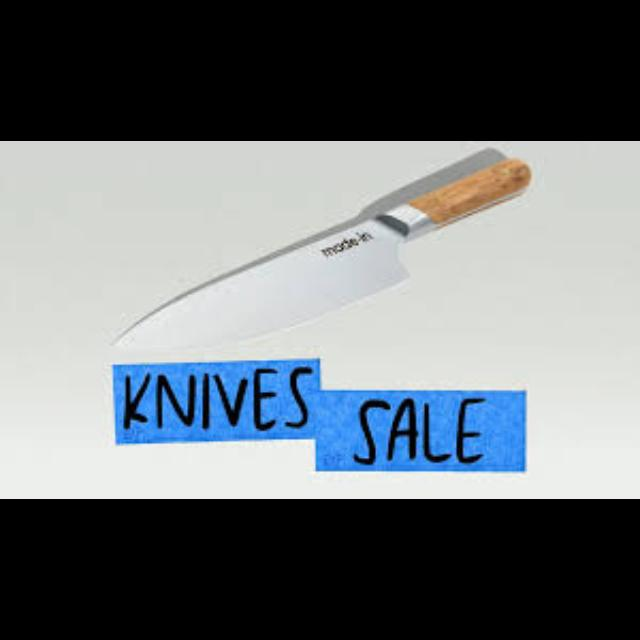knife: (109, 146, 531, 346)
